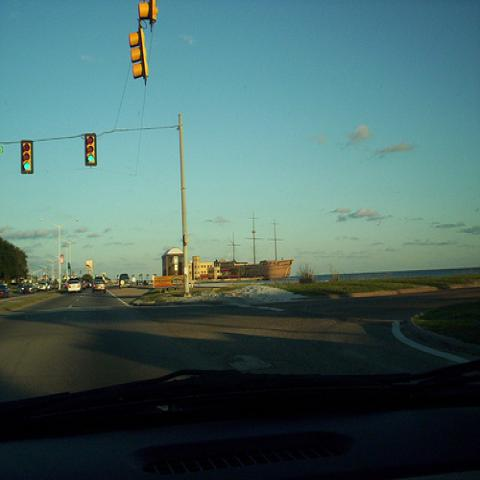car: (68, 278, 82, 293), (2, 282, 11, 304), (20, 282, 36, 294), (93, 280, 106, 294), (119, 274, 131, 288), (37, 282, 49, 292), (82, 279, 93, 289), (48, 284, 52, 290)
